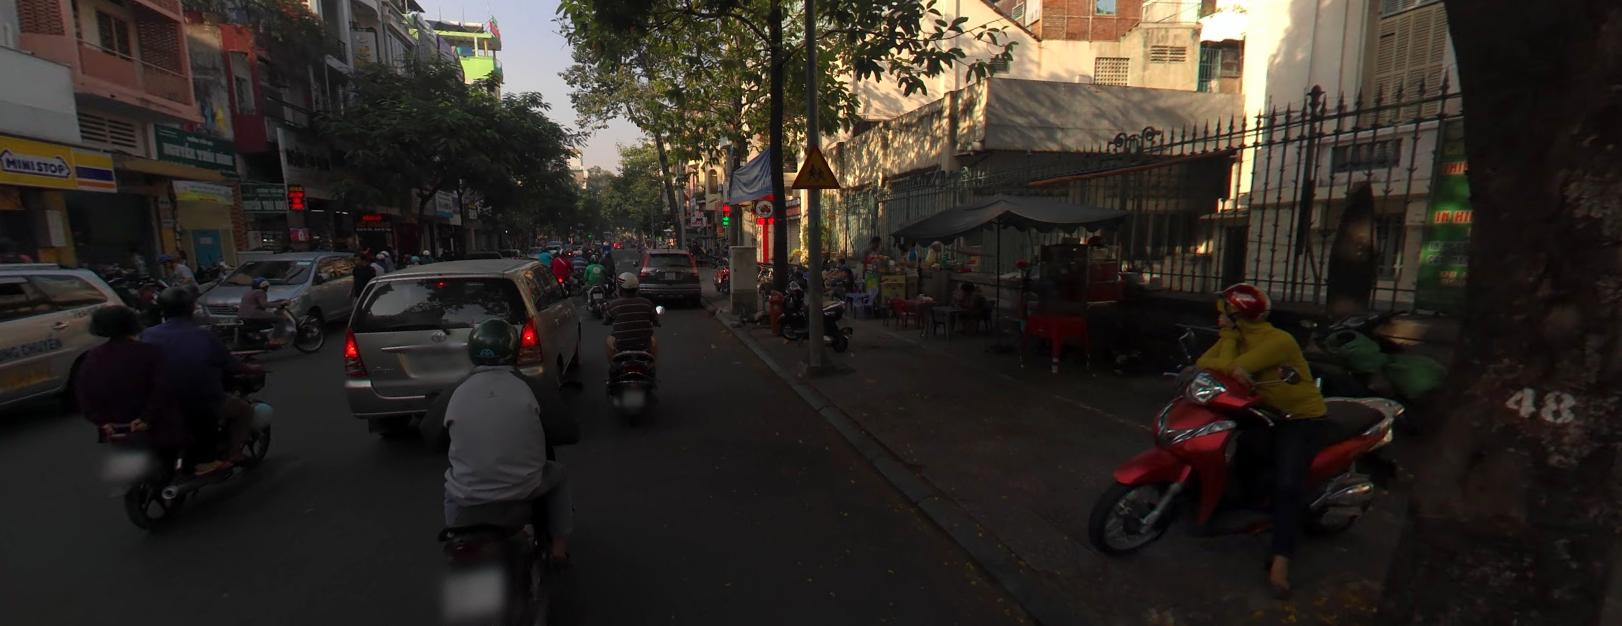Nguy hiem: (790, 141, 840, 187)
